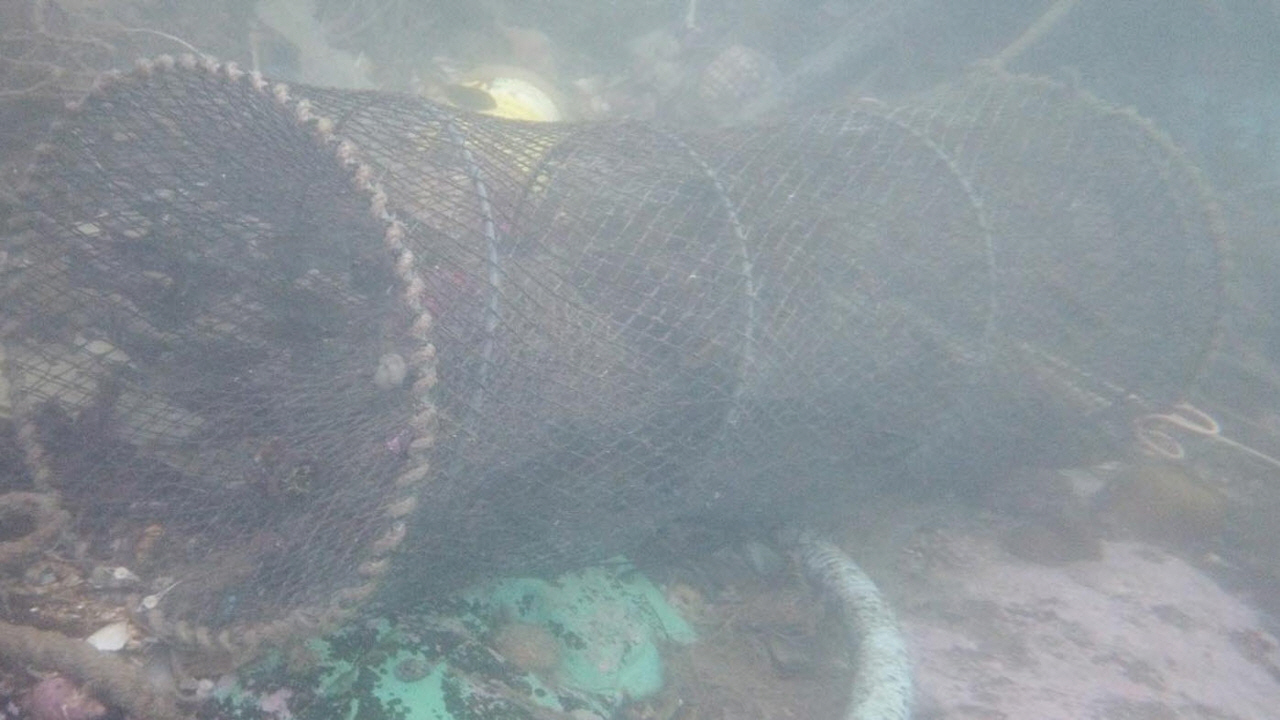rope: (7, 620, 183, 720)
spring fish trap: (1, 51, 1231, 654)
